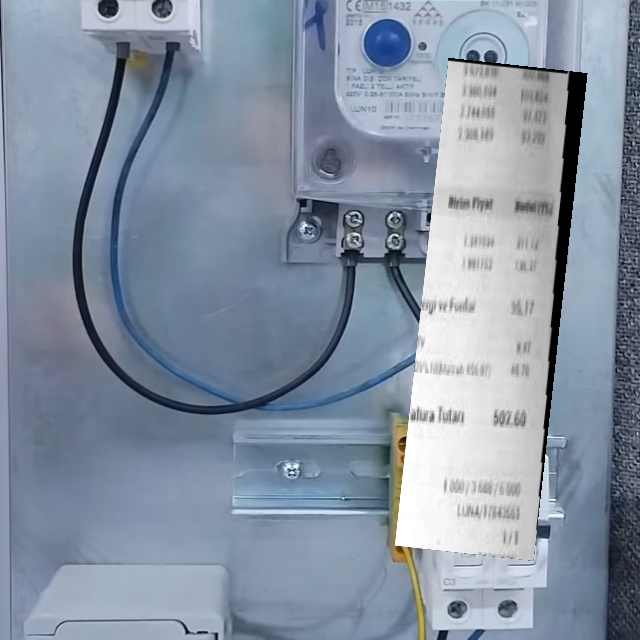electricity-bill: (395, 57, 588, 560)
